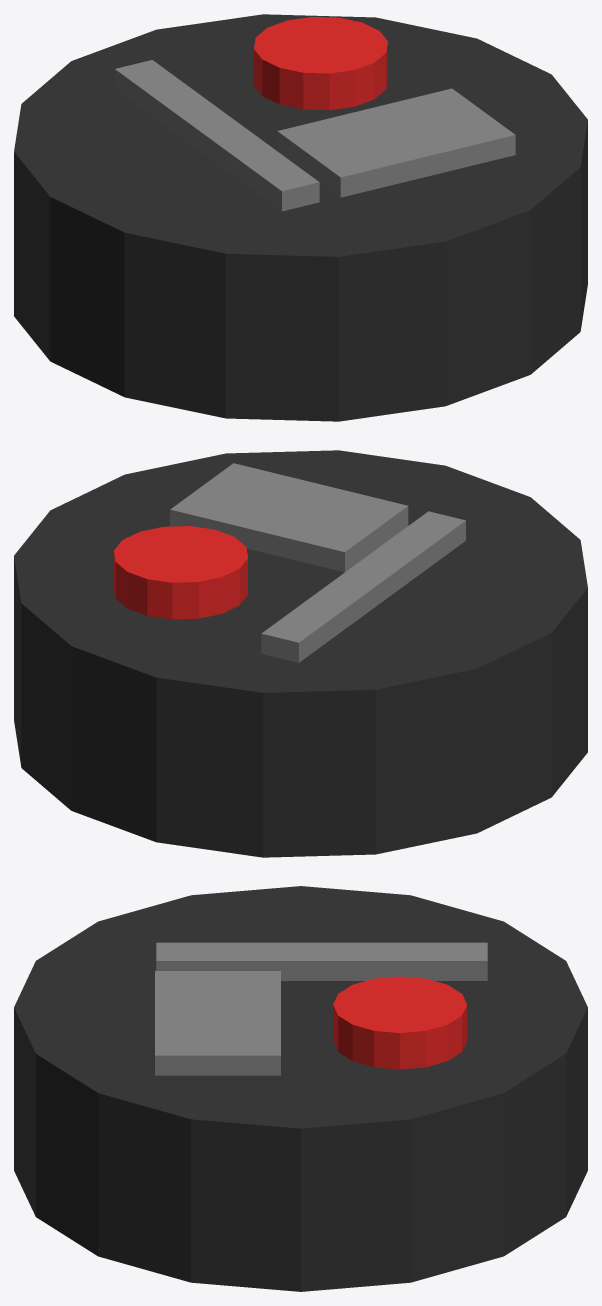
File: bomb.glb
3 views of the same model, one above another, from view 1: azimuth 30°, elevation 25°; view 2: azimuth 150°, elevation 25°; view 3: azimuth 270°, elevation 25° (orthographic).
Visible parts, largest first — view 1: base, decoration.001, light, decoration.002; view 2: base, decoration.001, light, decoration.002; view 3: base, decoration.001, decoration.002, light.
Boxes of the visible parts, x1,y1,x2,y2 form: base: (14,14,587,421); decoration.001: (277,88,515,197); light: (254,17,387,110); decoration.002: (114,60,319,211); base: (14,450,587,857); decoration.001: (170,463,408,572); light: (114,526,247,619); decoration.002: (261,511,465,662); base: (14,886,587,1291); decoration.001: (155,971,280,1075); decoration.002: (156,942,487,980); light: (333,976,467,1069).
Size of the model in its own units: 2 by 0.7681 by 2.
